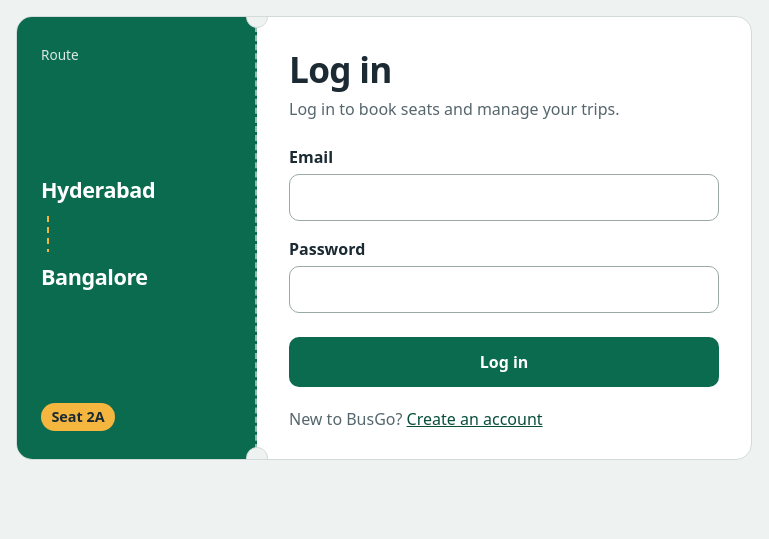
Test: LoginPage › shows the server message when the credentials are wrong
The image size is (769, 539).
In the field labelled "Email": point(504, 198) x1=289 y1=174 x2=719 y2=221, type "jane@example.com"
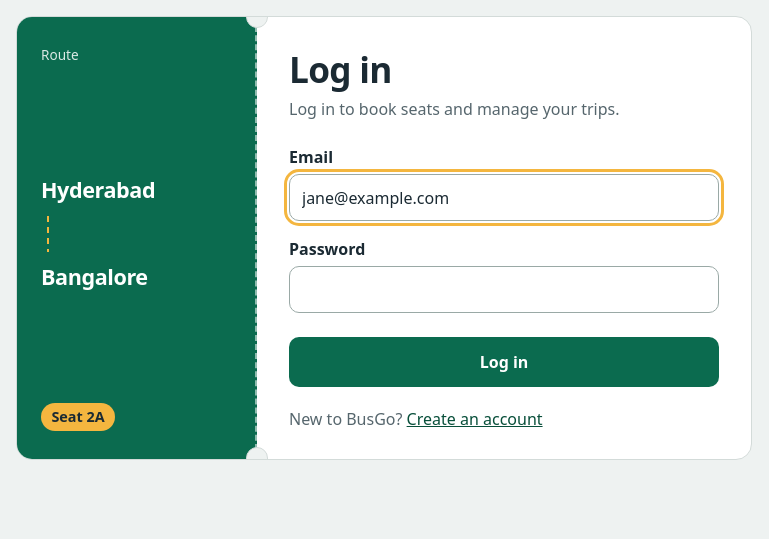
In the password field labelled "Password": point(504, 289) x1=289 y1=266 x2=719 y2=313, type "wrong-password"
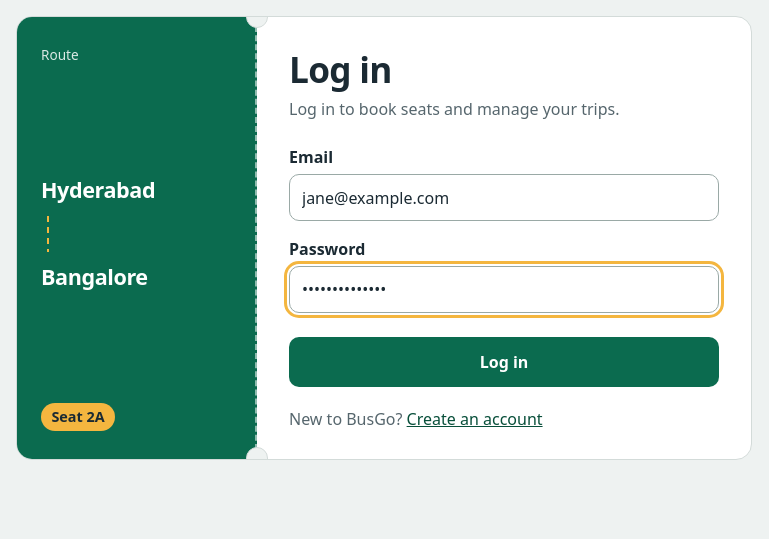
Click the button "Log in": point(504, 362) x1=289 y1=337 x2=719 y2=387
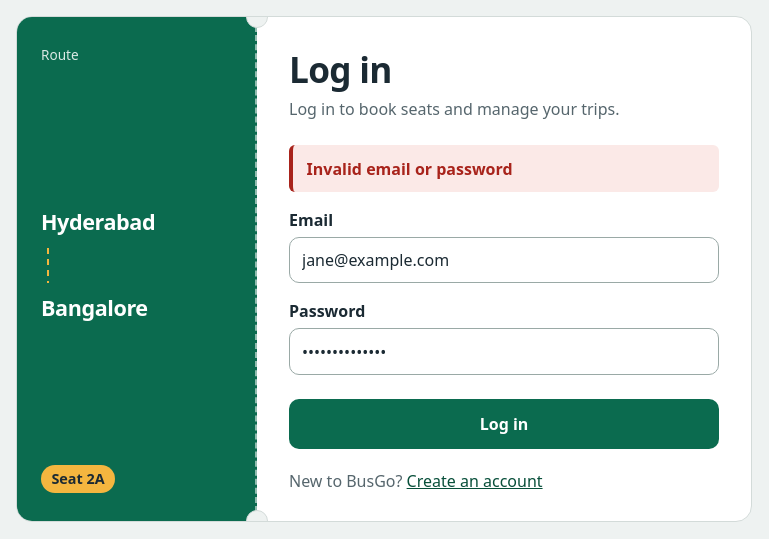
Expected: the message reads "Invalid email or password", x1=307 y1=158 x2=513 y2=180
